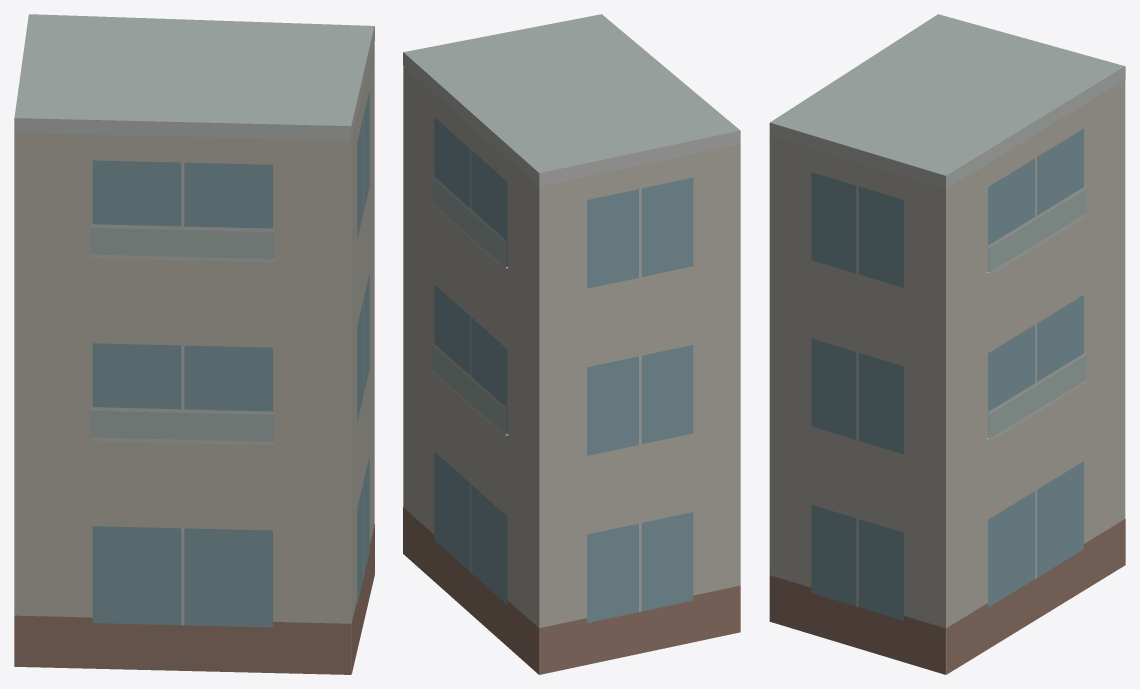
The model's file is survey-upis-32600586.glb.
3 views of the same model, side by side, from view 1: azimuth 30°, elevation 25°; view 2: azimuth 150°, elevation 25°; view 3: azimuth 270°, elevation 25° (orthographic). The views are drawn at different scales.
Parts seen in each view (by area): view 1: survey-upis-32600586.tmp; view 2: survey-upis-32600586.tmp; view 3: survey-upis-32600586.tmp.
Part boxes in pixels (left/top/right/bottom): survey-upis-32600586.tmp: left=14, top=14, right=374, bottom=674; survey-upis-32600586.tmp: left=403, top=14, right=740, bottom=674; survey-upis-32600586.tmp: left=769, top=14, right=1125, bottom=674.
Bounding box in the file's own units: 6.37 × 9.15 × 5.92.
